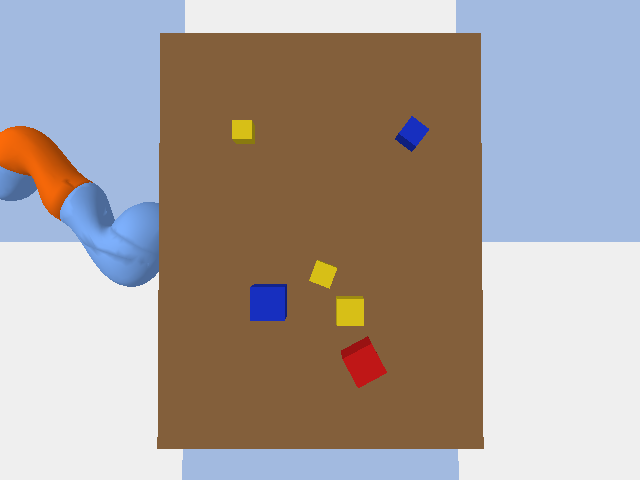blue_obj: (250, 284, 286, 320), (395, 116, 428, 151)
red_obj: (341, 336, 386, 387)
yellow_obj: (336, 296, 363, 325), (309, 260, 336, 288), (232, 120, 254, 143)
